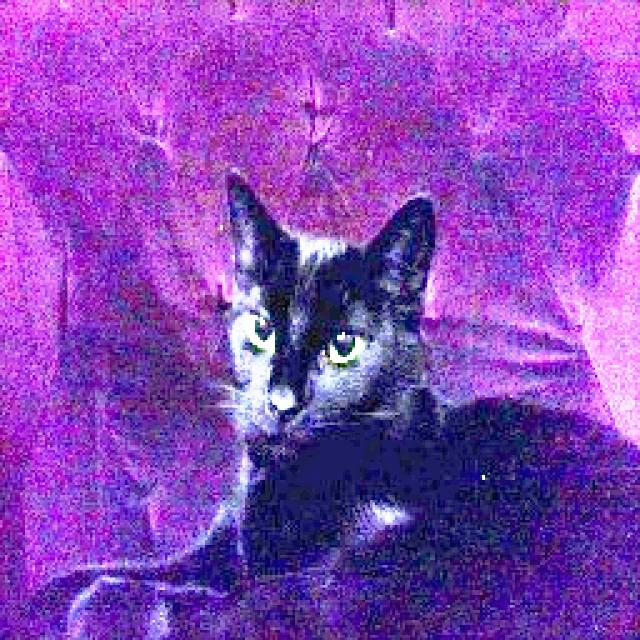cat: (216, 161, 640, 640)
